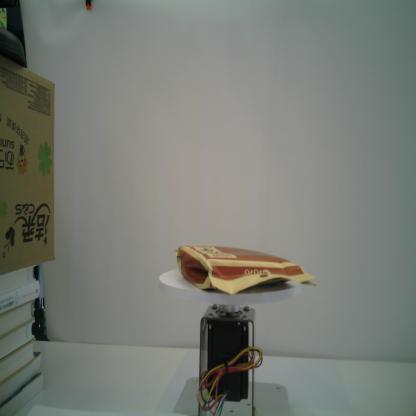Dried Food: (173, 243, 320, 303)
